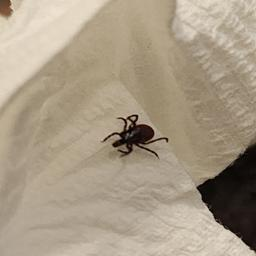Ixodes scapularis: (102, 114, 169, 159)
